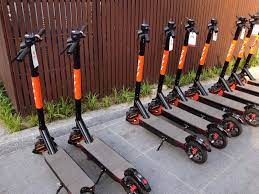kick_handler: (12, 29, 46, 60), (59, 26, 88, 52), (137, 24, 150, 41), (184, 18, 198, 33), (165, 19, 176, 38), (207, 19, 219, 31)
kick_neck: (29, 60, 45, 126), (72, 51, 81, 122), (135, 41, 144, 99)
kick_wheel: (122, 169, 147, 194), (186, 139, 208, 164), (208, 126, 227, 149), (223, 116, 241, 136), (243, 108, 259, 127), (69, 130, 84, 147), (149, 100, 164, 116), (33, 139, 48, 155), (127, 109, 141, 125)
